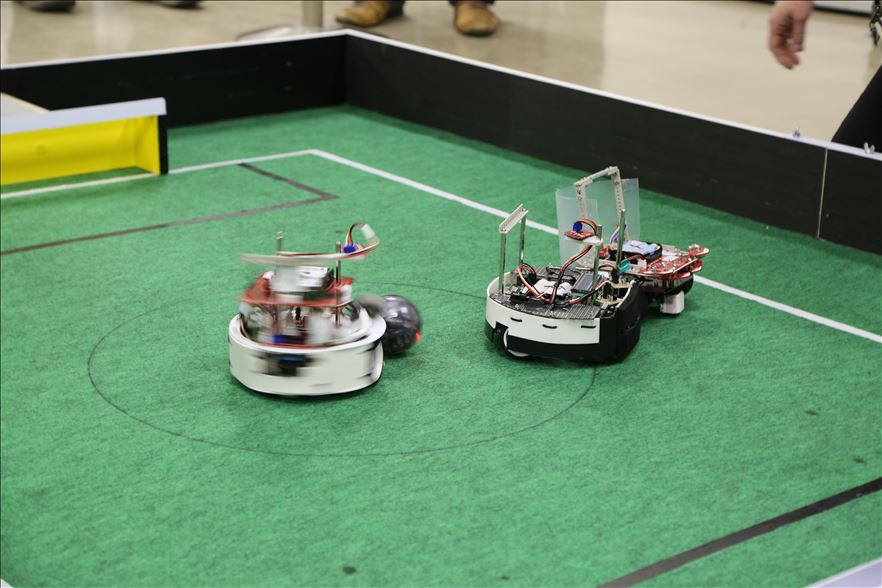Goal: (1, 96, 179, 185)
Robot: (213, 211, 400, 413), (468, 203, 650, 366), (555, 163, 714, 323)
